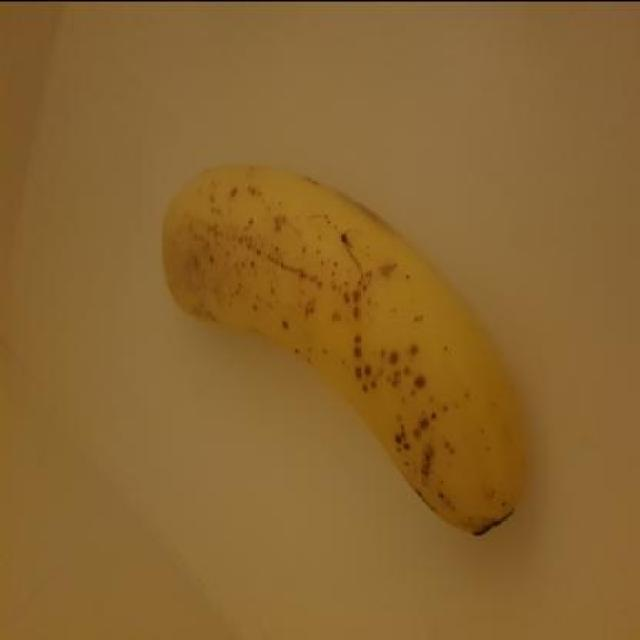Banana: (147, 164, 544, 548)
